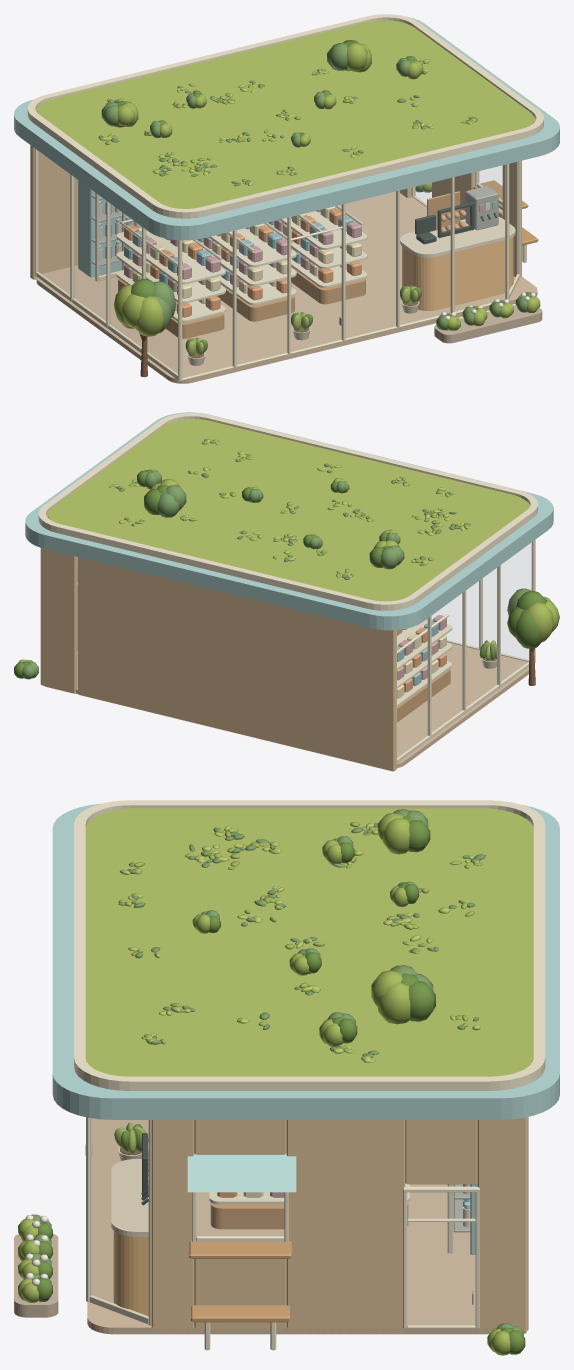
Rendered from 13-B-8bec9b0e3363.glb.
3 renders of one model, top to bottom at view 1: azimuth 30°, elevation 25°; view 2: azimuth 150°, elevation 25°; view 3: azimuth 270°, elevation 25°, orthographic. The views are drawn at different scales.
Parts seen in each view (by area): view 1: L 连续薄植生层, S 室内楼面, R 薄荷圆角檐带, R 奶油绿顶包边, I 食品包装, I 商品岛层板, L 地被与灌丛, I 圆角收银柜, A 连续前玻璃, A 后墙, A 左侧玻璃, I 商品岛底柜 (+14 smaller); view 2: L 连续薄植生层, A 后墙, R 薄荷圆角檐带, R 奶油绿顶包边, S 室内楼面, A 后门侧墙, L 地被与灌丛, A 左侧玻璃, L 自然成簇小地被, L 乔木 · 枝干与树冠, I 食品包装, I 商品岛层板 (+3 smaller); view 3: L 连续薄植生层, A 东侧实墙, R 薄荷圆角檐带, R 奶油绿顶包边, S 室内楼面, L 地被与灌丛, L 自然成簇小地被, A 取餐窗下, A 后门过梁, R 快取小雨棚, A 取餐窗过梁, I 圆角收银柜 (+10 smaller).
Boxes of the visible parts, left/top/right/bottom form: L 连续薄植生层: left=37, top=20, right=534, bottom=208; S 室内楼面: left=36, top=191, right=537, bottom=383; R 薄荷圆角檐带: left=14, top=16, right=559, bottom=240; R 奶油绿顶包边: left=27, top=14, right=543, bottom=218; I 食品包装: left=124, top=206, right=361, bottom=317; I 商品岛层板: left=116, top=211, right=367, bottom=322; L 地被与灌丛: left=101, top=40, right=540, bottom=330; I 圆角收银柜: left=402, top=237, right=513, bottom=310; A 连续前玻璃: left=179, top=164, right=508, bottom=381; A 后墙: left=30, top=145, right=78, bottom=279; A 左侧玻璃: left=34, top=148, right=182, bottom=381; I 商品岛底柜: left=118, top=266, right=365, bottom=338; L 连续薄植生层: left=48, top=419, right=528, bottom=601; A 后墙: left=78, top=557, right=396, bottom=771; R 薄荷圆角檐带: left=25, top=412, right=553, bottom=630; R 奶油绿顶包边: left=38, top=413, right=537, bottom=610; S 室内楼面: left=75, top=642, right=528, bottom=768; A 后门侧墙: left=44, top=549, right=77, bottom=693; L 地被与灌丛: left=14, top=469, right=404, bottom=679; A 左侧玻璃: left=396, top=539, right=535, bottom=763; L 自然成簇小地被: left=109, top=439, right=470, bottom=579; L 乔木 · 枝干与树冠: left=507, top=588, right=559, bottom=685; I 食品包装: left=397, top=615, right=446, bottom=698; I 商品岛层板: left=397, top=619, right=452, bottom=706; L 连续薄植生层: left=85, top=808, right=533, bottom=1076; A 东侧实墙: left=151, top=1117, right=526, bottom=1333; R 薄荷圆角檐带: left=52, top=803, right=559, bottom=1119; R 奶油绿顶包边: left=74, top=800, right=545, bottom=1090; S 室内楼面: left=87, top=1118, right=495, bottom=1334; L 地被与灌丛: left=18, top=809, right=525, bottom=1355; L 自然成簇小地被: left=118, top=822, right=485, bottom=1062; A 取餐窗下: left=194, top=1259, right=286, bottom=1332; A 后门过梁: left=405, top=1120, right=477, bottom=1184; R 快取小雨棚: left=187, top=1153, right=296, bottom=1192; A 取餐窗过梁: left=194, top=1120, right=286, bottom=1154; I 圆角收银柜: left=113, top=1231, right=148, bottom=1316.
Bounding box in the file's own units: 22.85 × 10.02 × 16.57.
